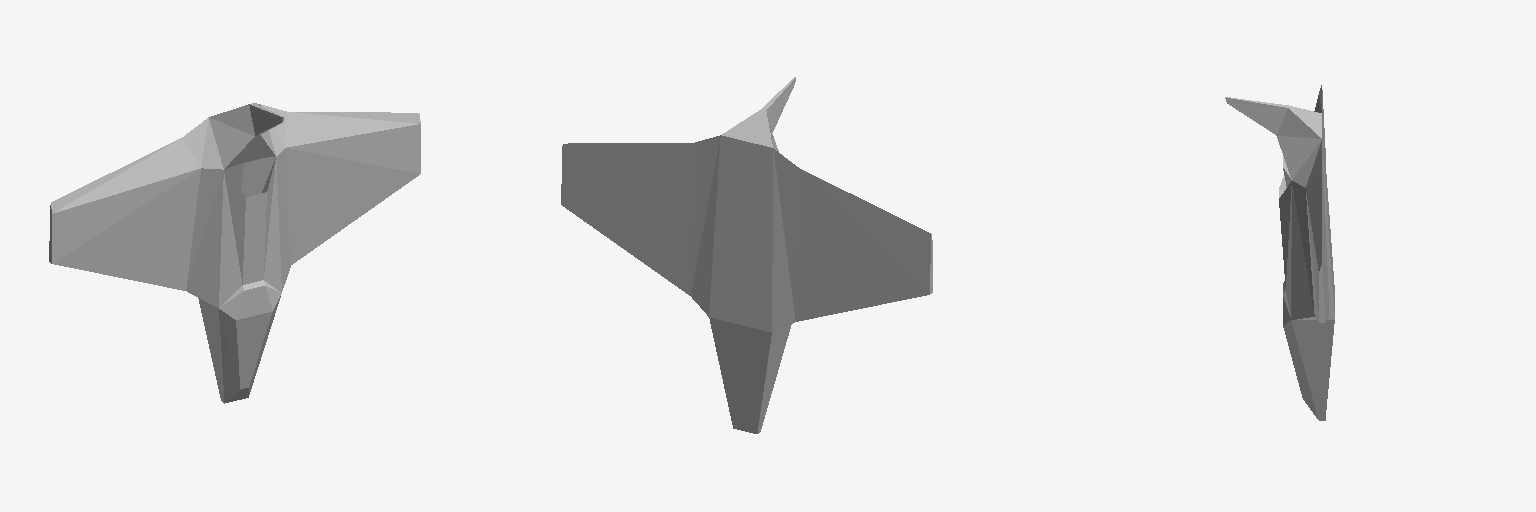
File: ship.obj
3 renders of one model, left to right at view 1: azimuth 30°, elevation 25°; view 2: azimuth 150°, elevation 25°; view 3: azimuth 270°, elevation 25°, orthographic.
Size of the model in its own units: 14.04 by 11.56 by 3.62.